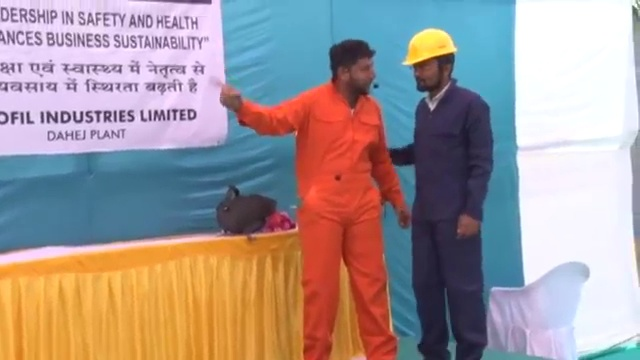helmet: (400, 27, 459, 65)
helmet_off: (328, 37, 382, 97)
helmet_on: (402, 27, 464, 99)
person: (208, 39, 408, 360), (386, 26, 497, 360)
